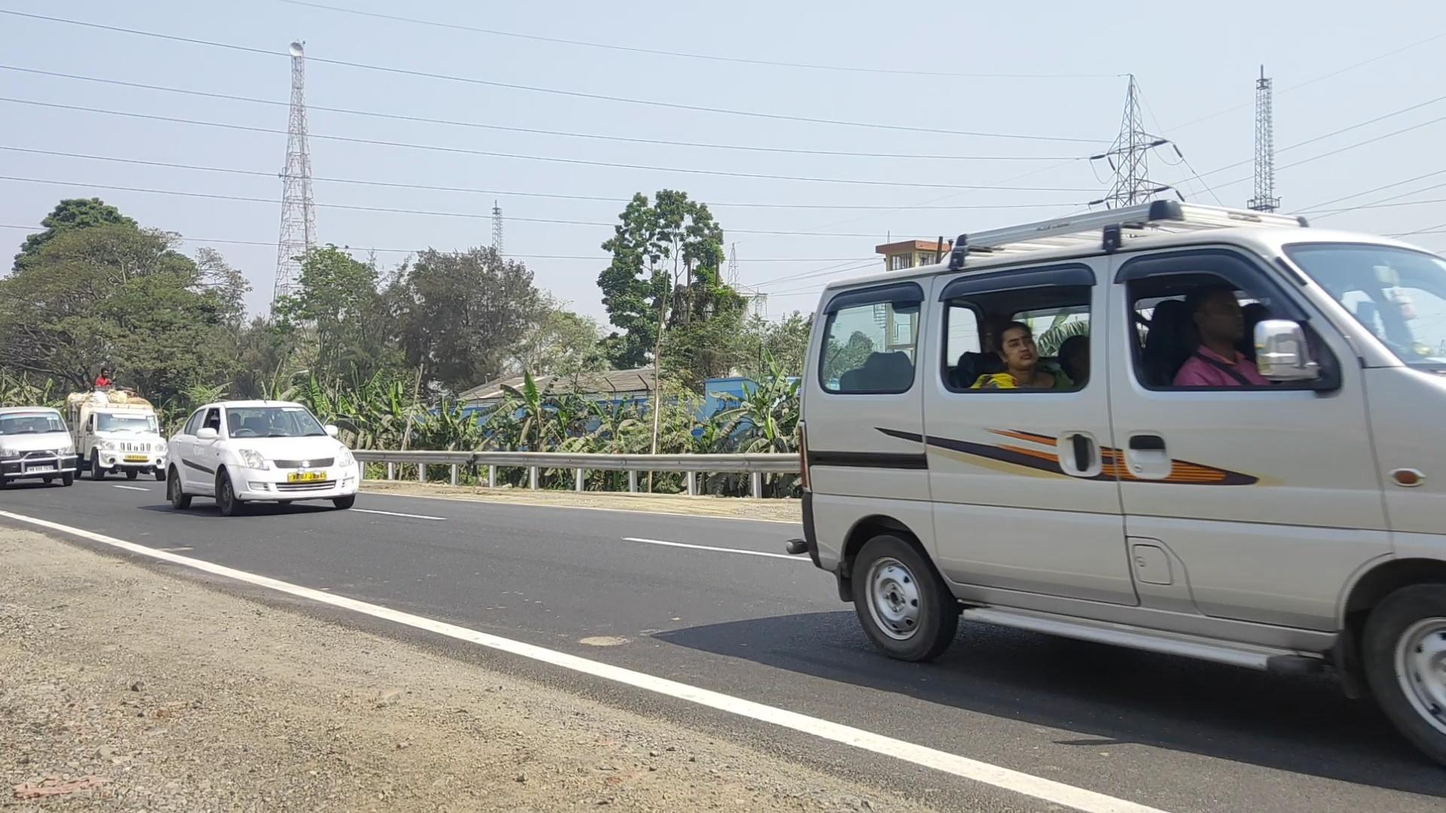car: (165, 399, 358, 516)
van: (787, 199, 1446, 770), (63, 368, 168, 481), (1, 406, 78, 492)
